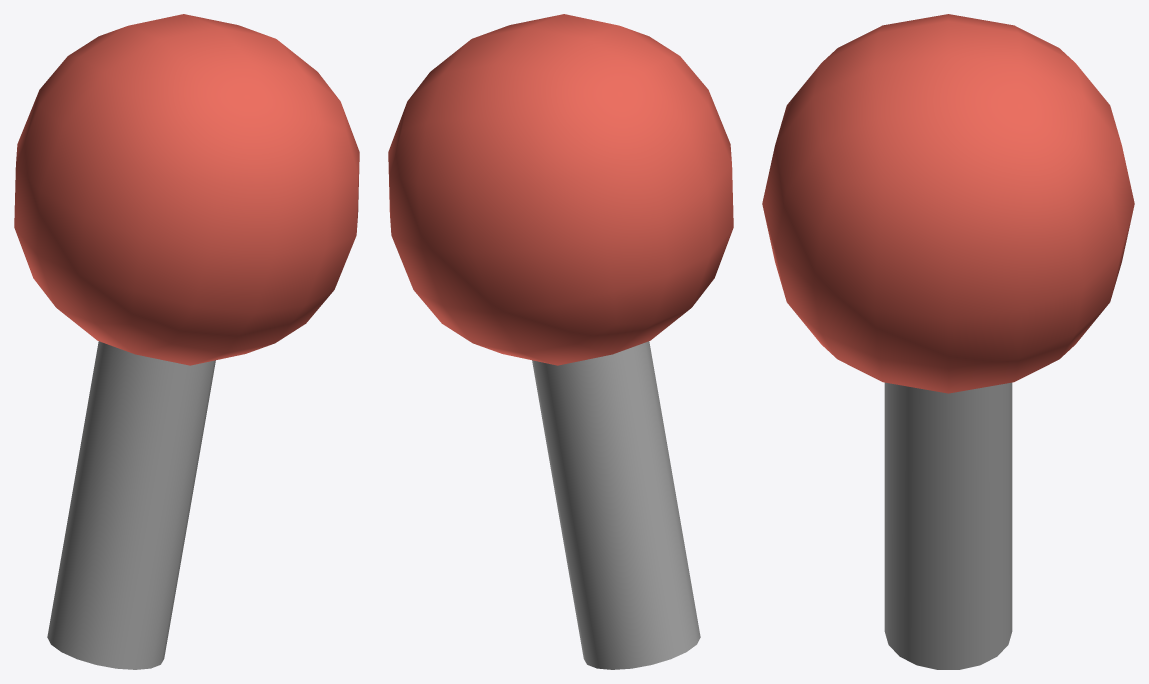
Rendered from arcade_joystick.glb.
3 views of the same model, side by side, from view 1: azimuth 30°, elevation 25°; view 2: azimuth 150°, elevation 25°; view 3: azimuth 270°, elevation 25° (orthographic). The views are drawn at different scales.
Visible parts, largest first — view 1: Joystick, Arcade_Joystick_Lever; view 2: Joystick, Arcade_Joystick_Lever; view 3: Joystick, Arcade_Joystick_Lever.
Part boxes in pixels (x1,y1,x2,y2): Joystick: [14, 14, 359, 365]; Arcade_Joystick_Lever: [47, 341, 215, 669]; Joystick: [388, 14, 733, 365]; Arcade_Joystick_Lever: [532, 341, 700, 669]; Joystick: [762, 14, 1134, 393]; Arcade_Joystick_Lever: [884, 382, 1012, 669].
Size of the model in its own units: 0.5901 by 1.14 by 0.5923.
